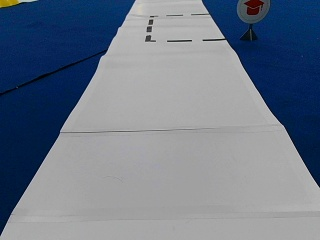school: (236, 0, 269, 23)
